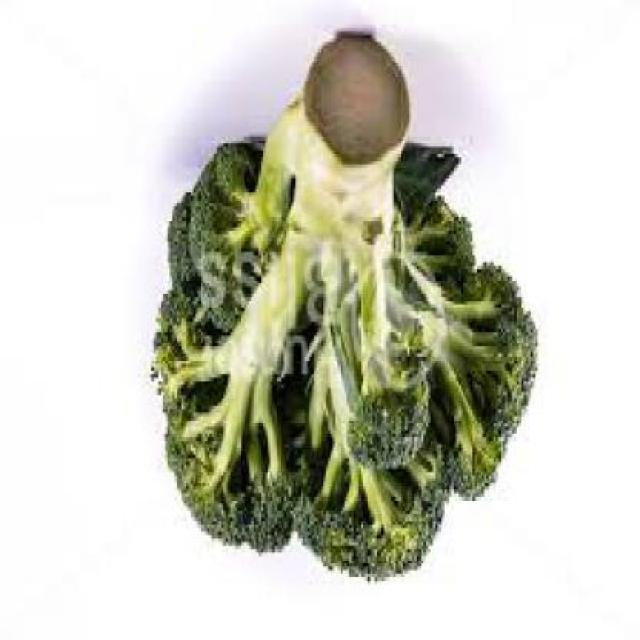BIODEGRADABLE: (152, 35, 539, 588)
